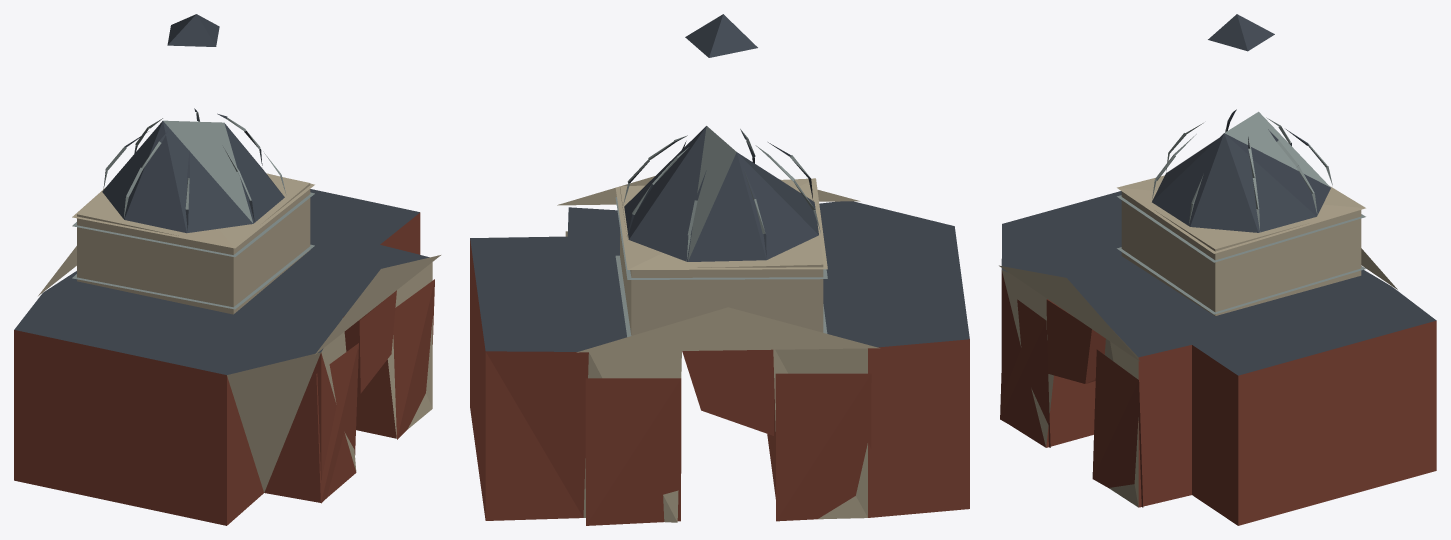
Rendered from muiderpoort.lod2.glb.
The picture shows the model from 3 angles, left to right: view 1: azimuth 30°, elevation 25°; view 2: azimuth 150°, elevation 25°; view 3: azimuth 270°, elevation 25°; orthographic projection. The views are drawn at different scales.
Parts seen in each view (by area): view 1: lod2; view 2: lod2; view 3: lod2.
Part boxes in pixels (x1,y1,x2,y2): lod2: (14,14,440,525); lod2: (470,14,969,525); lod2: (999,14,1436,525).
Bounding box in the file's own units: 27.74 × 25.2 × 24.86.
